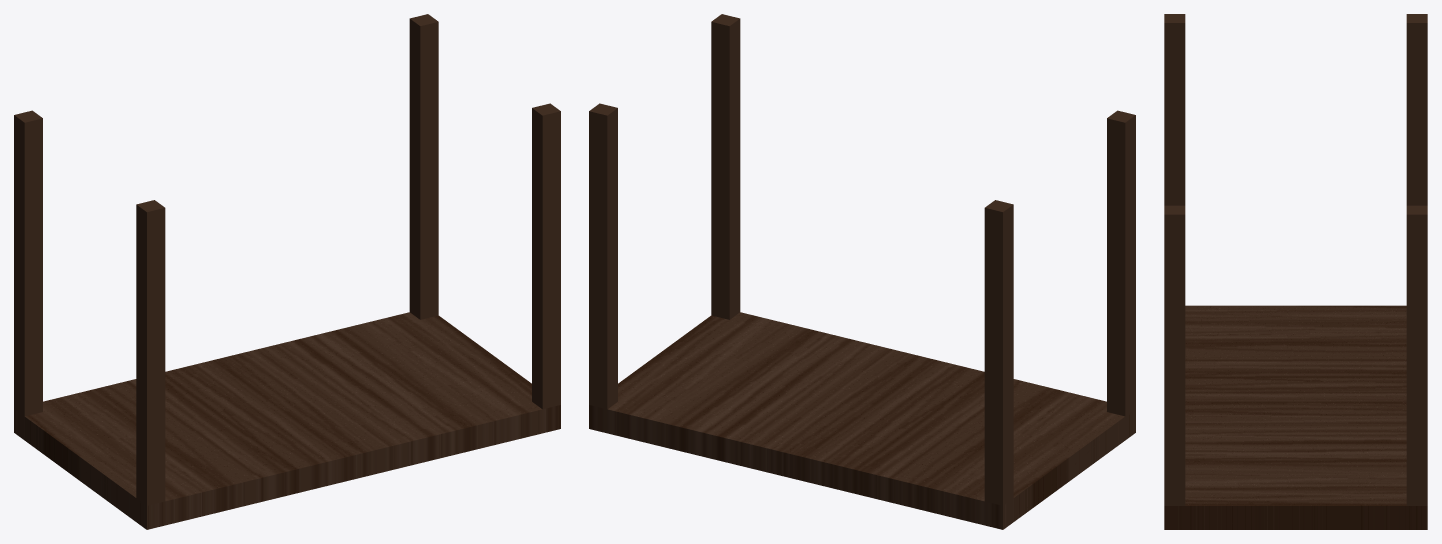
The picture shows the model from 3 angles, left to right: view 1: azimuth 30°, elevation 25°; view 2: azimuth 150°, elevation 25°; view 3: azimuth 270°, elevation 25°; orthographic projection.
Visible parts, largest first — view 1: box_4_3_2; view 2: box_4_3_2; view 3: box_4_3_2.
Part boxes in pixels (box(x1,y1,x2,y2)): box_4_3_2: box(14, 14, 560, 529); box_4_3_2: box(589, 14, 1135, 529); box_4_3_2: box(1164, 14, 1427, 529).
Bounding box in the file's own units: 0.18 × 0.132 × 0.1.
Materials: 2 (1 with a texture image).
